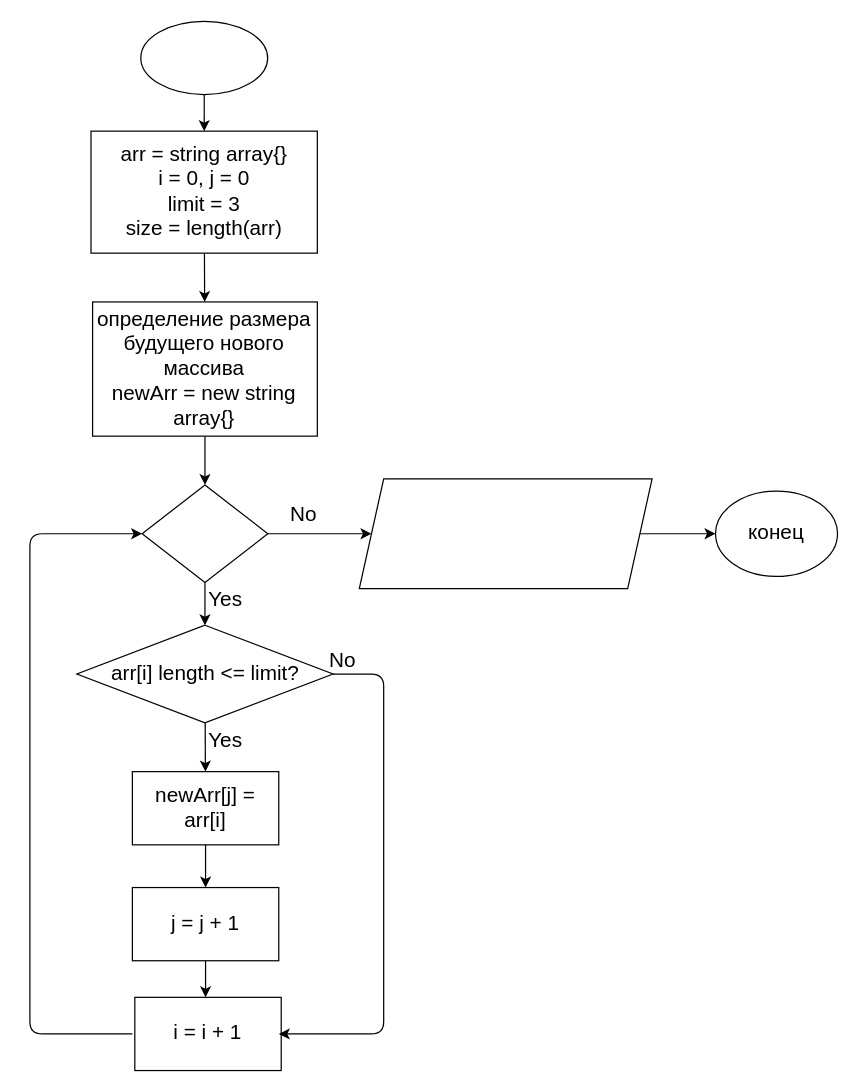
The diagram is 859 pixels wide and 1092 high, and some of its shapes have lost their labels. The shapes that lost their labels are listed below. From the top down, each one's box as (x1, y1, x2, y2) in pixels, then its label:
(140, 20, 268, 95): начало
(141, 484, 268, 583): i < size?
(358, 478, 652, 589): вывод исходного массива вывод нового массива
